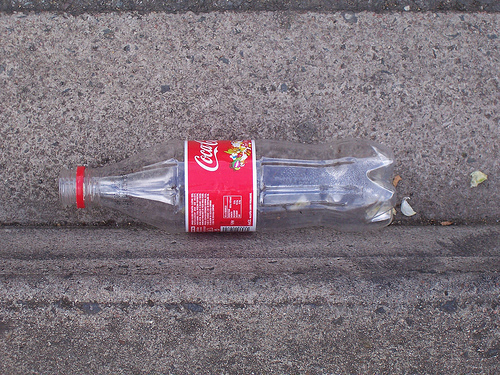litter: (55, 138, 395, 234)
